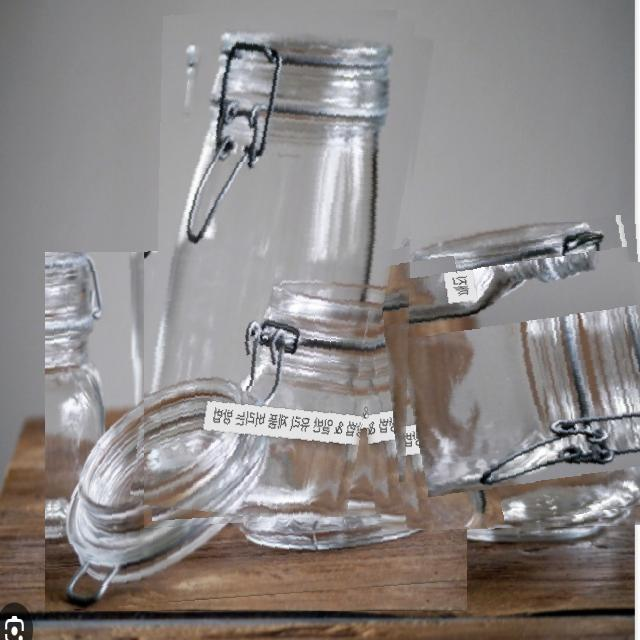recyclable: (45, 252, 467, 611), (144, 10, 416, 529), (361, 222, 640, 531)
